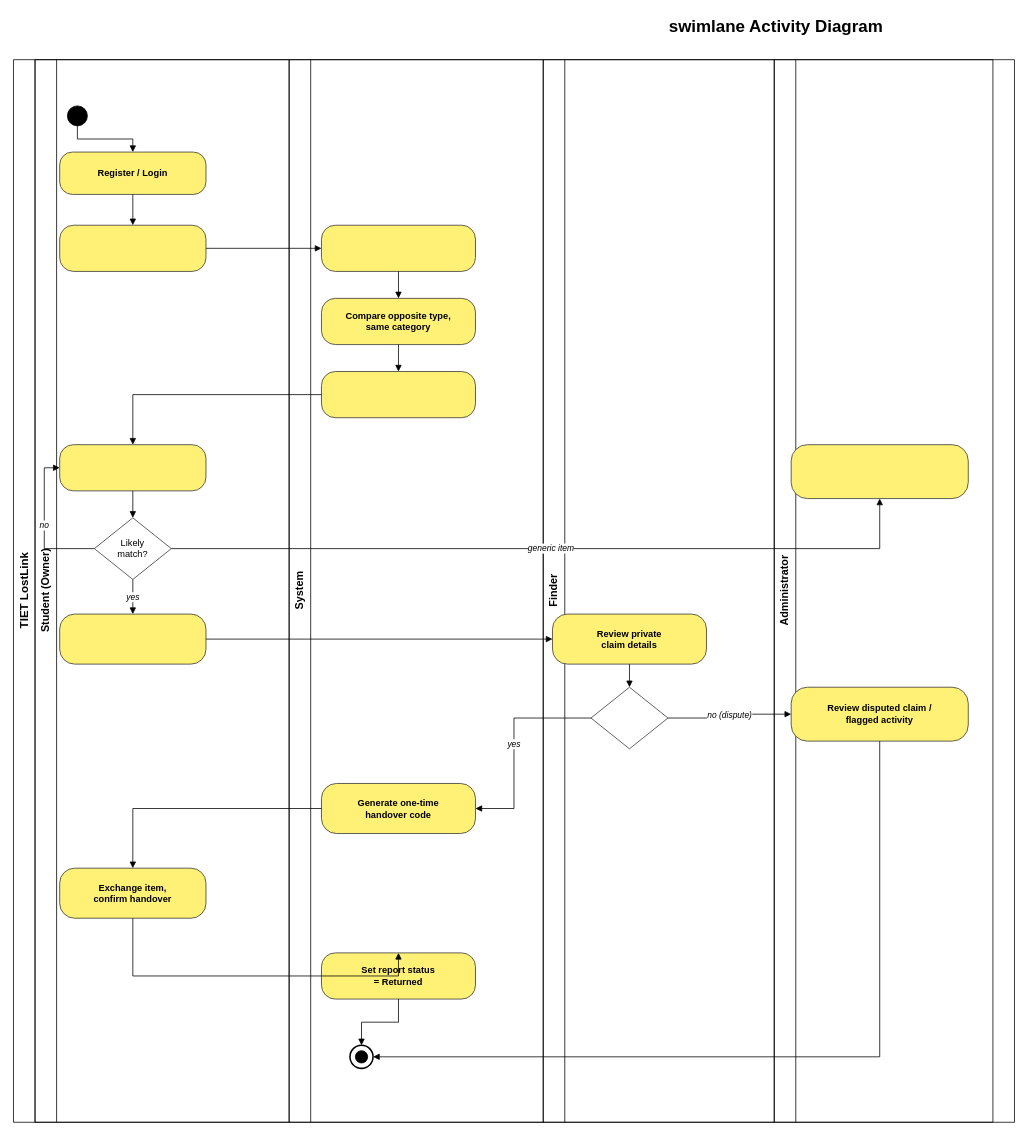
This 1028x1136 diagram has some shape labels left out. The shapes that lost their labels are listed below. From the top down, each one's centre as x and y in pixels, then its label:
point (132, 247): Submit Lost or Found report
point (398, 247): Save report, generate report ID
point (398, 394): Rank matches by weighted score M
point (132, 467): Review possible matches
point (879, 471): Recommend supervised handover (security desk)
point (132, 638): Submit ownership claim + evidence
point (629, 717): Approve claim?
